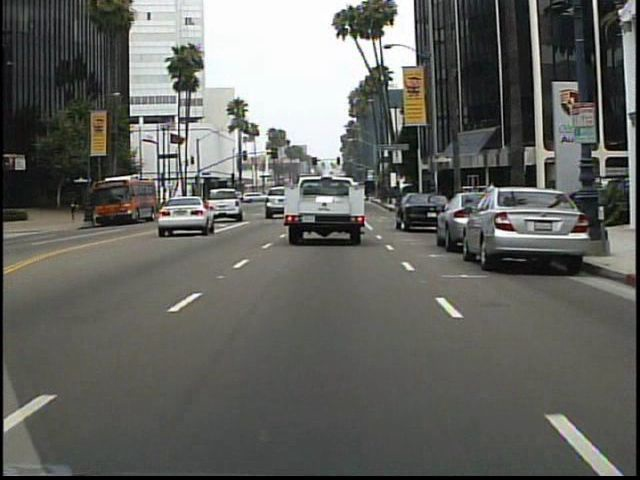person: (484, 179, 501, 222), (67, 193, 83, 228)
